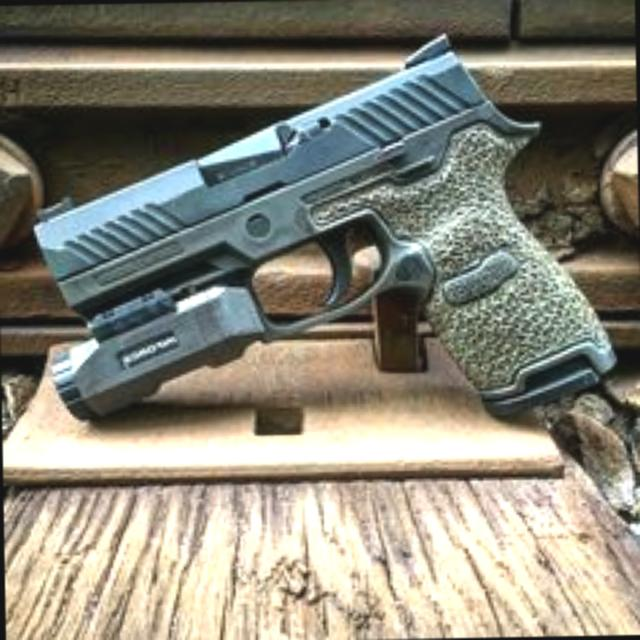semi automatic: (16, 21, 621, 497)
